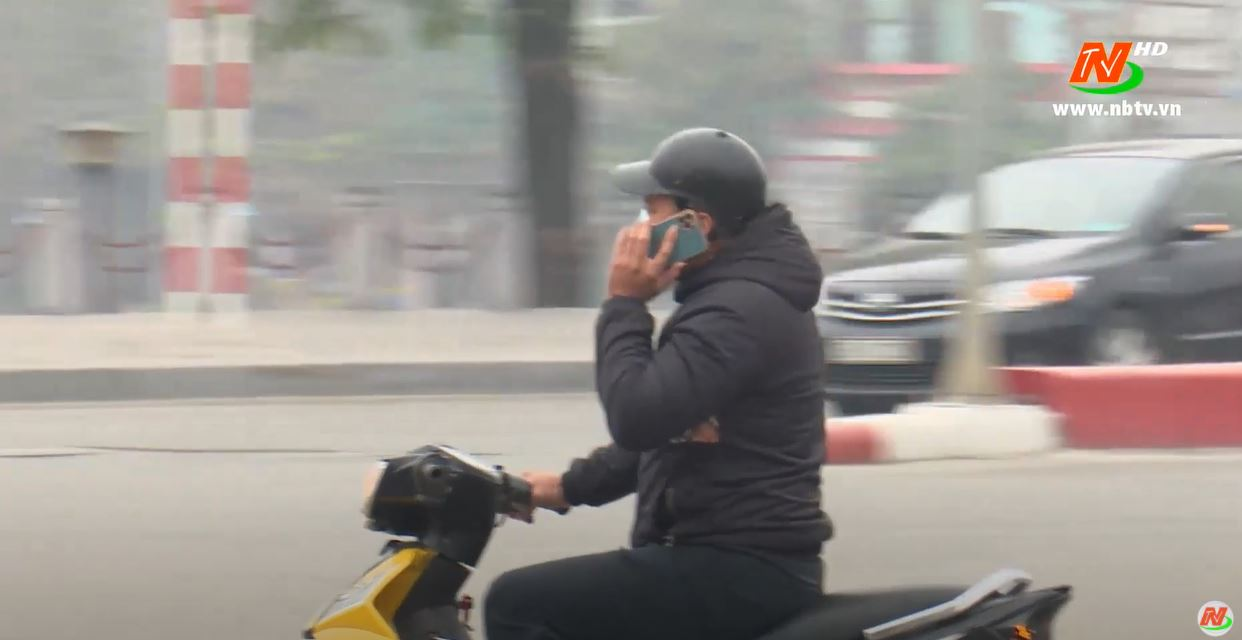dieu khien xe may: (308, 122, 814, 640)
su dung dien thoai: (606, 127, 769, 318)
